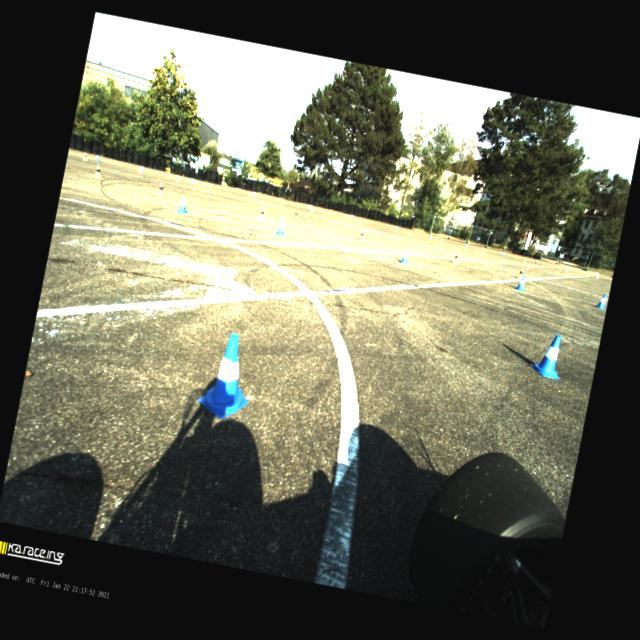blue_cone: (196, 330, 260, 422), (528, 331, 568, 380), (178, 196, 190, 213), (515, 274, 526, 292), (276, 218, 287, 236), (595, 294, 607, 310), (401, 248, 410, 264), (96, 154, 100, 161), (190, 178, 194, 184)
yellow_cone: (94, 164, 102, 178), (158, 182, 166, 195), (358, 229, 366, 241), (452, 252, 460, 264), (259, 207, 266, 220), (83, 153, 89, 161), (176, 175, 180, 182), (248, 192, 252, 199), (310, 206, 314, 212), (358, 218, 362, 224), (522, 258, 526, 262), (440, 238, 442, 242), (482, 248, 484, 252)
